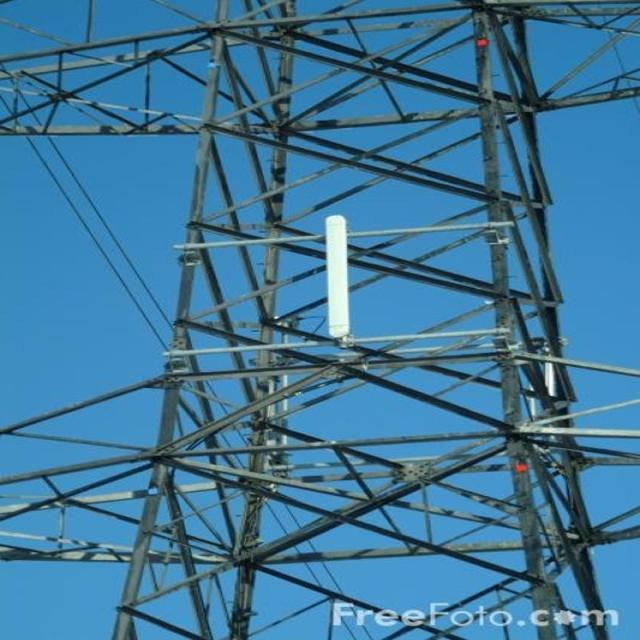non-critical vegetation: (19, 6, 628, 632)
